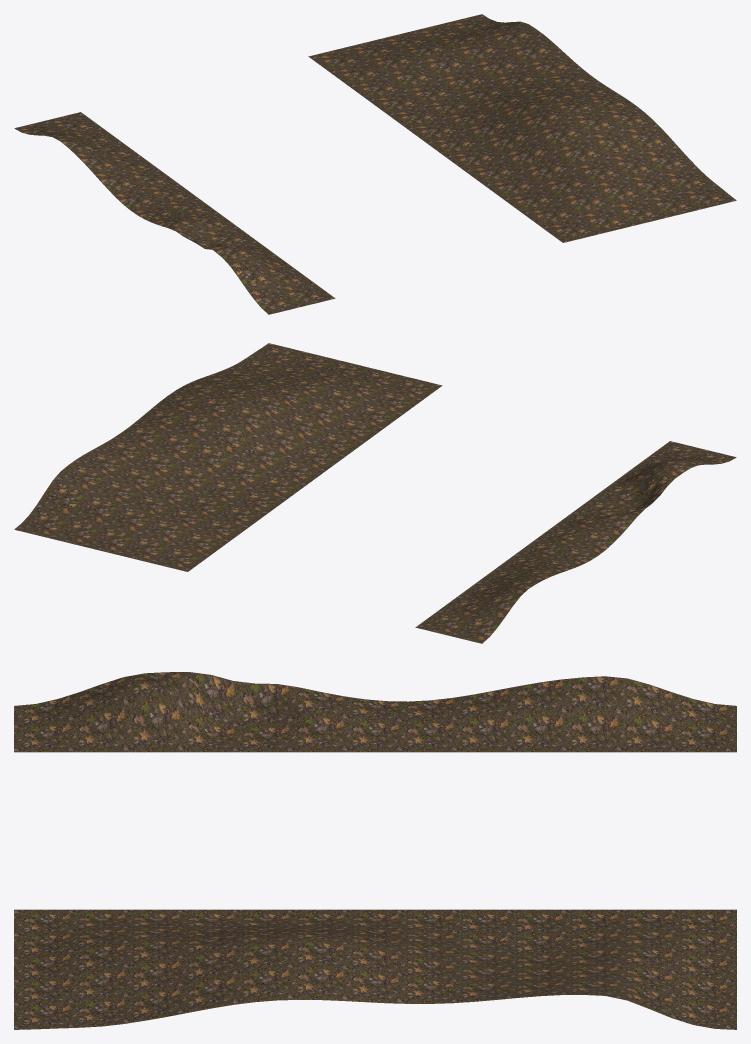
The model's file is forest_access_landform.gltf.
The picture shows the model from 3 angles, top to bottom: view 1: azimuth 30°, elevation 25°; view 2: azimuth 150°, elevation 25°; view 3: azimuth 270°, elevation 25°; orthographic projection. The views are drawn at different scales.
Parts seen in each view (by area): view 1: forest_access_landform; view 2: forest_access_landform; view 3: forest_access_landform.
Boxes of the visible parts, left/top/right/bottom form: forest_access_landform: left=14, top=14, right=736, bottom=314; forest_access_landform: left=14, top=343, right=736, bottom=643; forest_access_landform: left=14, top=672, right=736, bottom=1029.
Bounding box in the file's own units: 35 × 2.09 × 33.
Materials: 1 (1 with a texture image).
